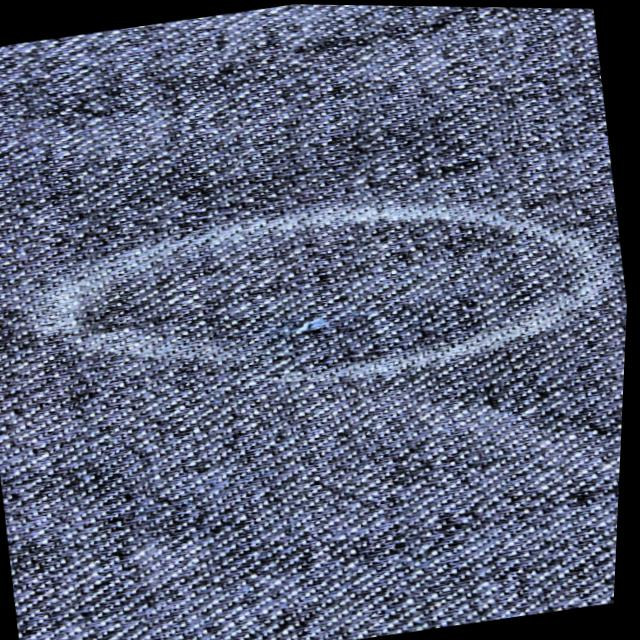Hole: (292, 317, 334, 333)
